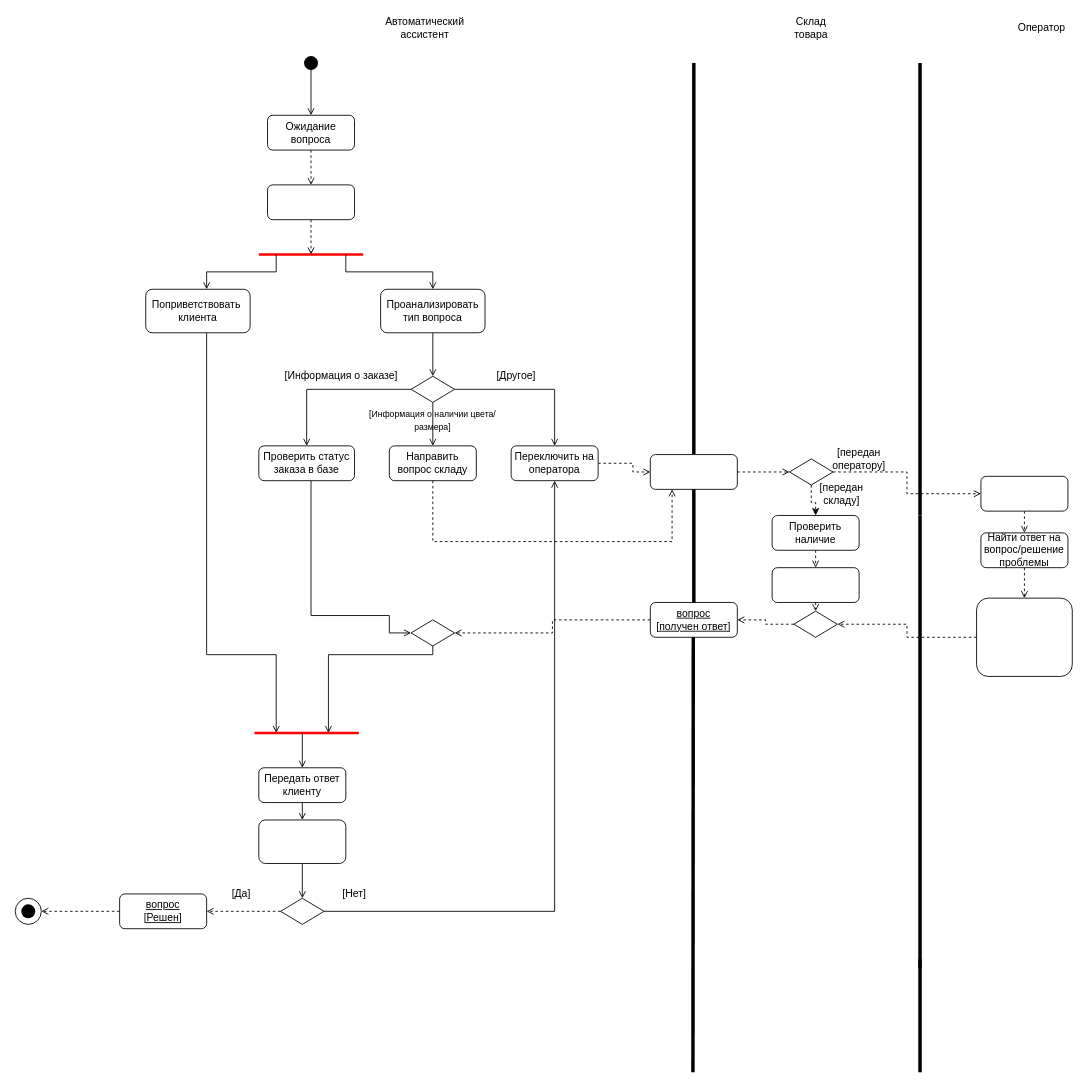
This 1088x1089 diagram has some shape labels left out. Here are the shapes that lost their labels. From the top down, the box of each, then its label:
(267, 184, 355, 220): вопрос [задан]
(649, 454, 737, 489): вопрос [передан]
(980, 475, 1068, 511): Уточнить у клиента детали его вопроса
(771, 567, 859, 602): Составить и передать ответ на запрос
(976, 597, 1072, 676): В соответствии с принятыми нормами составить ответ и передать в базу
(258, 819, 346, 863): Спросить, получен ли желаемый ответ
